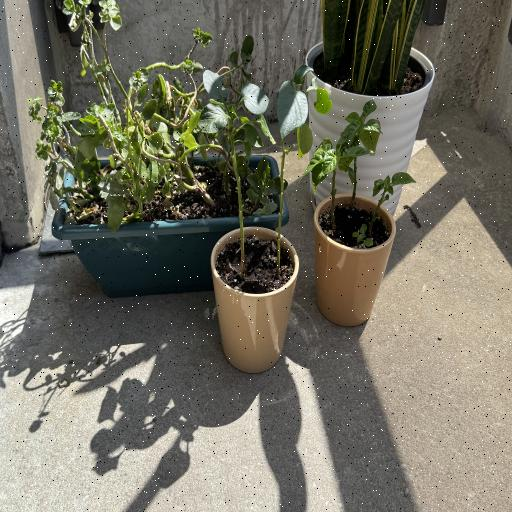Plant Pot: (51, 150, 289, 296), (307, 36, 434, 220), (210, 227, 298, 373), (312, 196, 394, 328)
